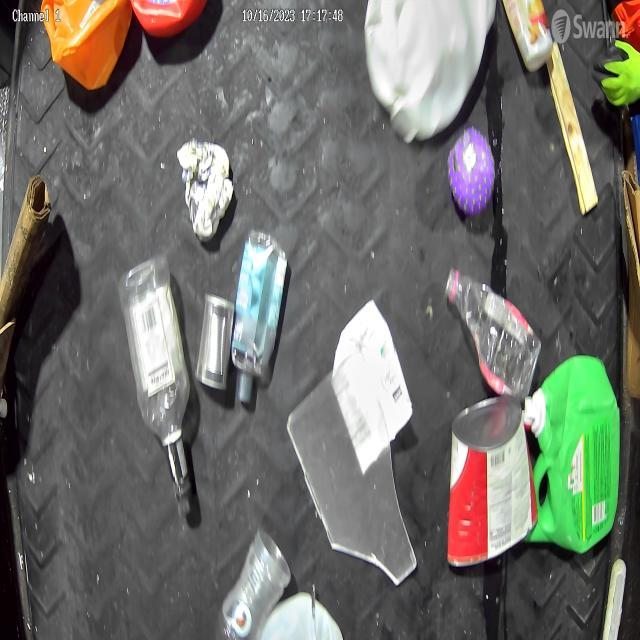can: (448, 390, 540, 563), (195, 292, 238, 406)
milk_jug: (360, 0, 492, 139)
non_white_jug: (518, 351, 624, 557), (38, 0, 134, 98)
plastic_bottle: (440, 267, 542, 404), (212, 519, 290, 640)
